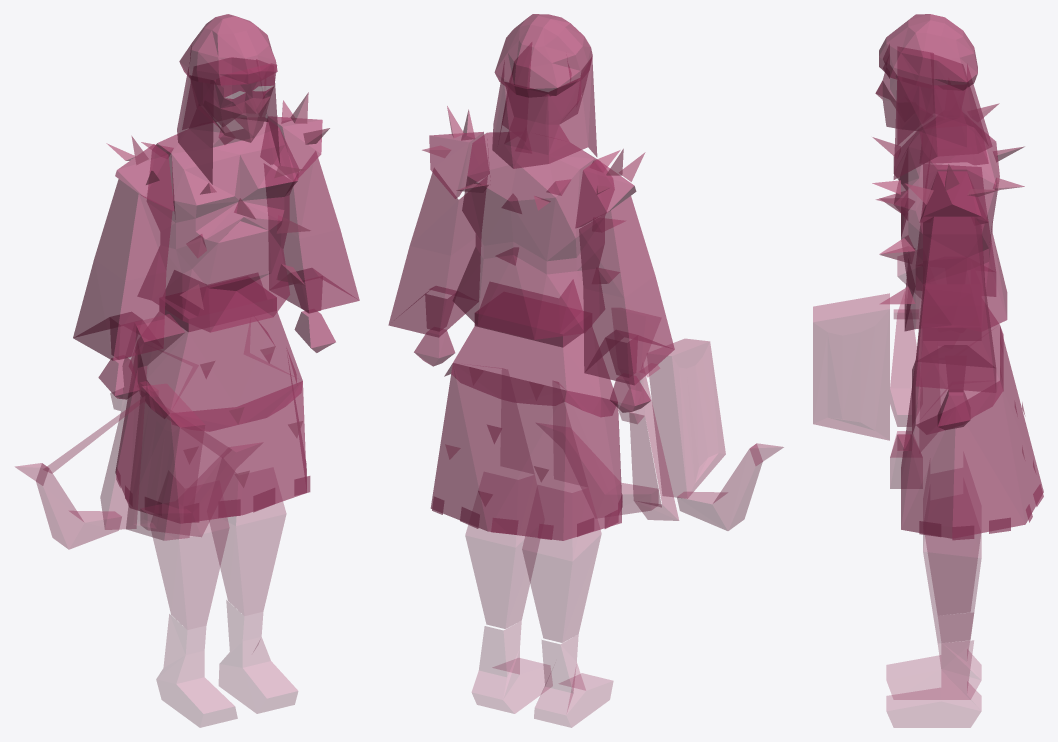
Rendered from karil.gltf.
3 views of the same model, side by side, from view 1: azimuth 30°, elevation 25°; view 2: azimuth 150°, elevation 25°; view 3: azimuth 270°, elevation 25° (orthographic).
Size of the model in its own units: 111 by 207 by 63.
Materials: 1 (1 with a texture image).
